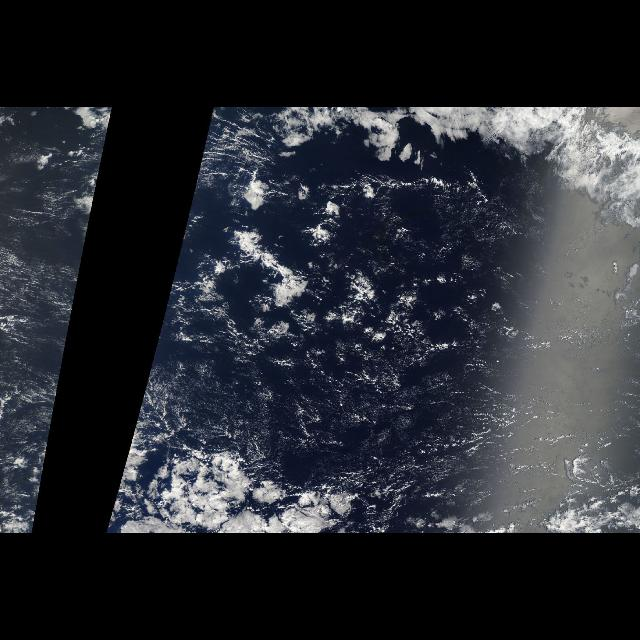Sugar: (128, 207, 620, 498), (1, 111, 85, 534)
